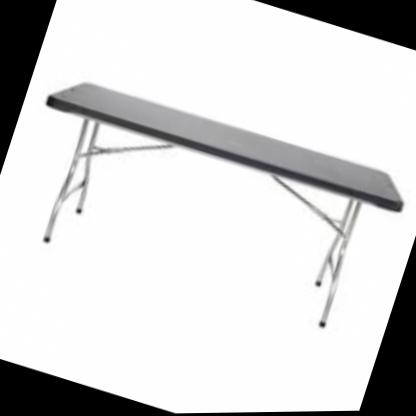Table: (0, 46, 416, 393)
